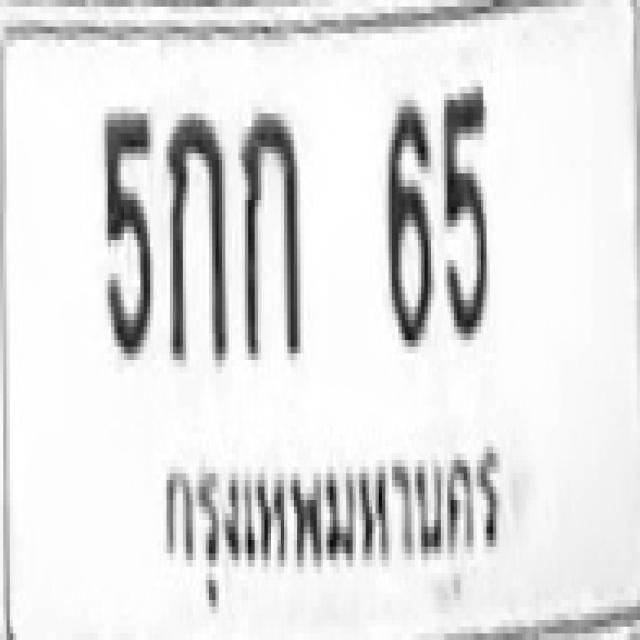10GorGai: (163, 107, 226, 360), (238, 107, 300, 353)
5: (101, 107, 150, 353), (441, 83, 486, 337)
6: (384, 100, 429, 340)
Bangkok: (148, 442, 502, 599)
